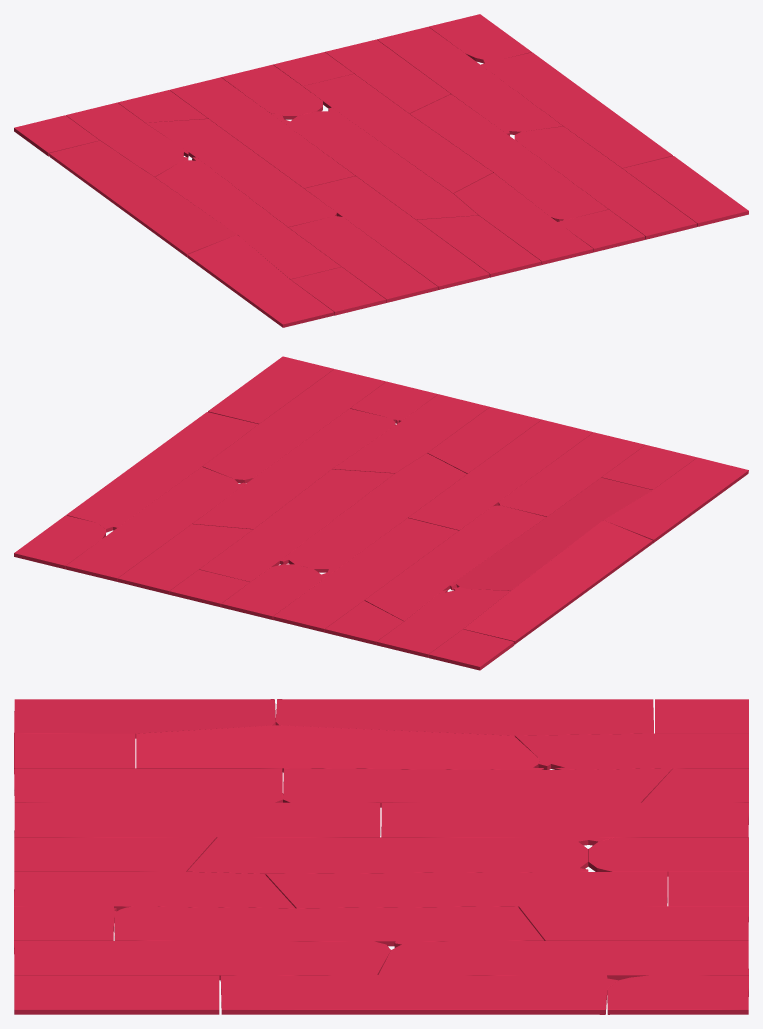
Rendered from floor.fbx.
The picture shows the model from 3 angles, top to bottom: view 1: azimuth 30°, elevation 25°; view 2: azimuth 150°, elevation 25°; view 3: azimuth 270°, elevation 25°; orthographic projection. The views are drawn at different scales.
Parts seen in each view (by area): view 1: Plane; view 2: Plane; view 3: Plane.
Part boxes in pixels (x1,y1,x2,y2): Plane: (14, 14, 748, 327); Plane: (14, 356, 748, 670); Plane: (14, 699, 748, 1014).
Size of the model in its own units: 400 by 9.35 by 400.
